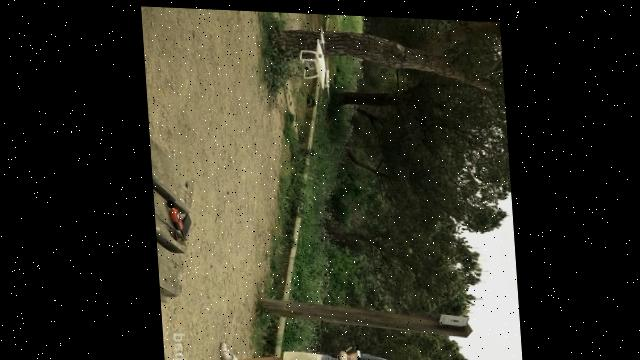drone: (297, 22, 331, 97)
